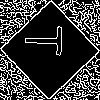T: (25, 25, 71, 56)
